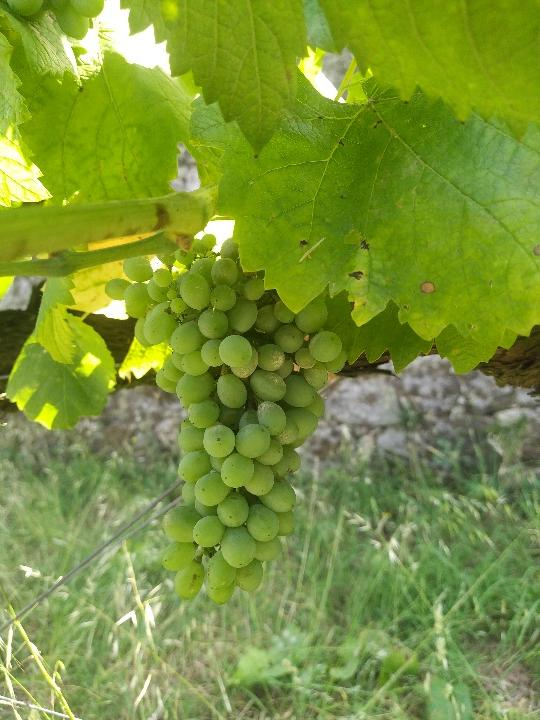grape: (98, 232, 347, 611)
